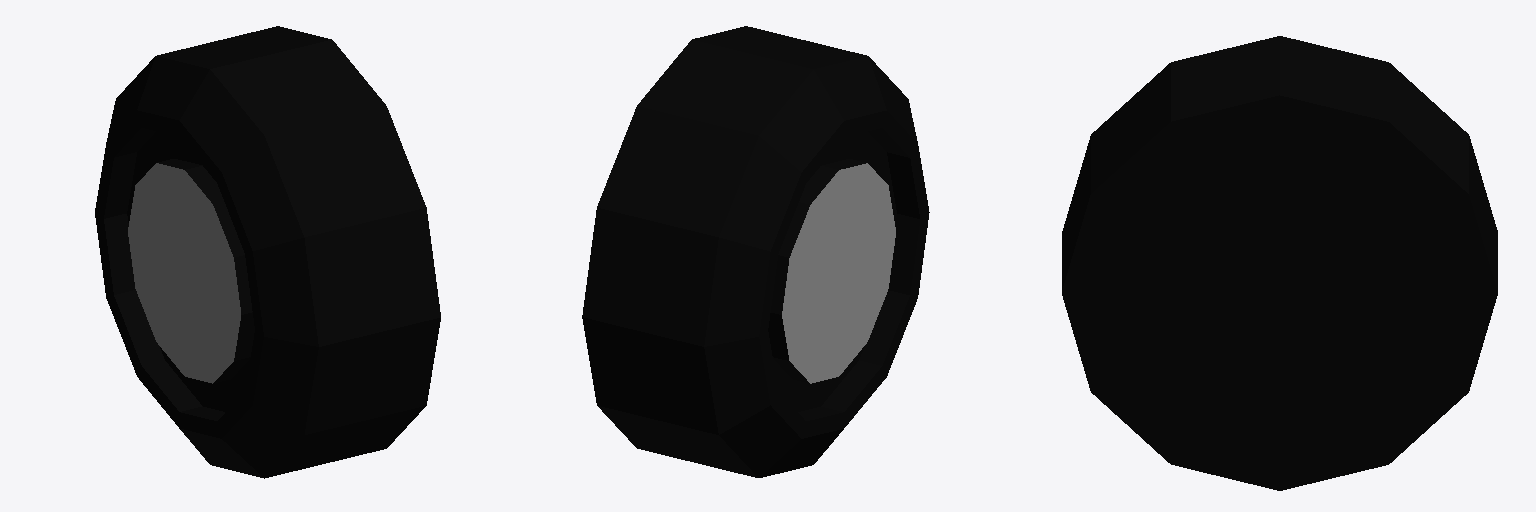
The model's file is anteriore.obj.
The picture shows the model from 3 angles: view 1: azimuth 30°, elevation 25°; view 2: azimuth 150°, elevation 25°; view 3: azimuth 270°, elevation 25°; orthographic projection.
Visible parts, largest first — view 1: wheelfl_Cylinder.001; view 2: wheelfl_Cylinder.001; view 3: wheelfl_Cylinder.001.
Boxes of the visible parts, x1,y1,x2,y2 form: wheelfl_Cylinder.001: [95, 26, 440, 478]; wheelfl_Cylinder.001: [582, 26, 929, 477]; wheelfl_Cylinder.001: [1062, 36, 1497, 490].
Size of the model in its own units: 0.4822 by 1.19 by 1.19.